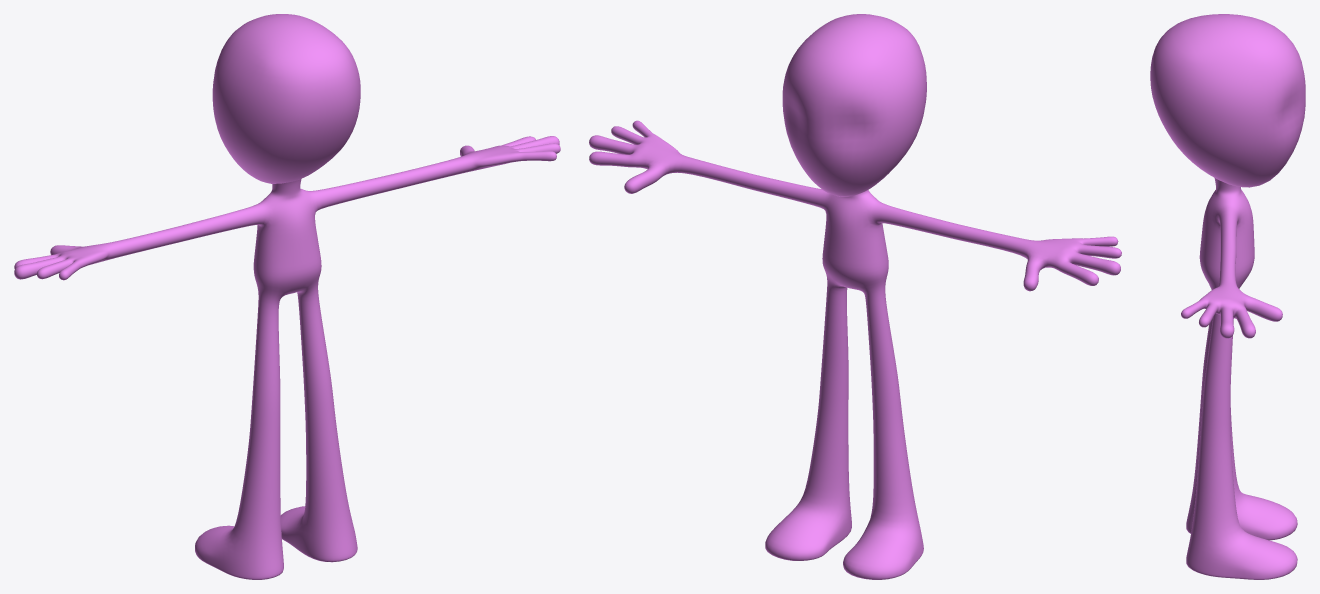
Rendered from character.fbx.
The picture shows the model from 3 angles, left to right: view 1: azimuth 30°, elevation 25°; view 2: azimuth 150°, elevation 25°; view 3: azimuth 270°, elevation 25°; orthographic projection. The views are drawn at different scales.
Visible parts, largest first — view 1: Body.001; view 2: Body.001; view 3: Body.001.
Part boxes in pixels (x1=…): Body.001: x1=14, y1=14, x2=560, y2=579; Body.001: x1=589, y1=14, x2=1121, y2=579; Body.001: x1=1150, y1=14, x2=1305, y2=579.
Bounding box in the file's own units: 400 × 376 × 101.
